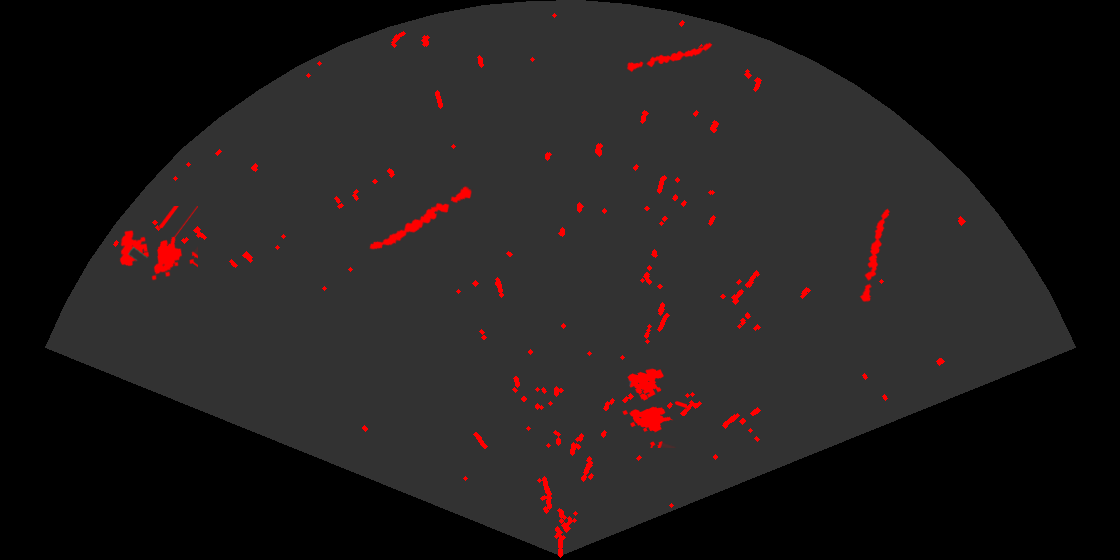cage: (118, 206, 198, 282), (621, 367, 687, 448)
chain: (368, 184, 473, 251), (858, 207, 892, 304), (625, 41, 714, 74)
